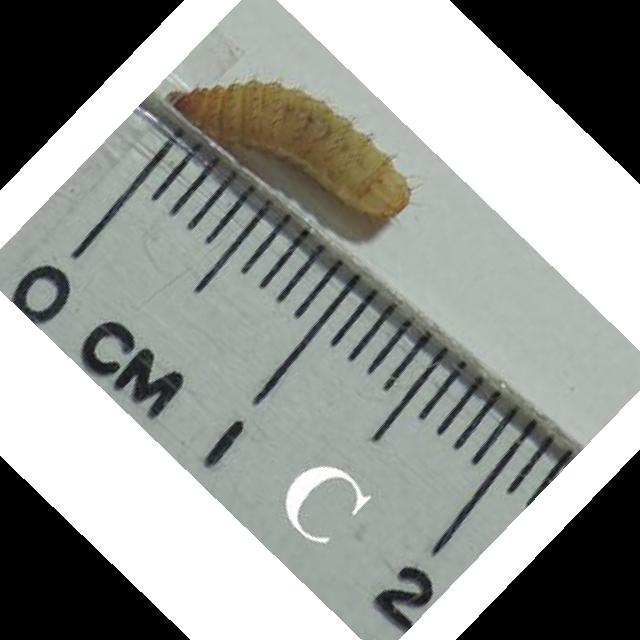Maggot: (171, 82, 412, 224)
